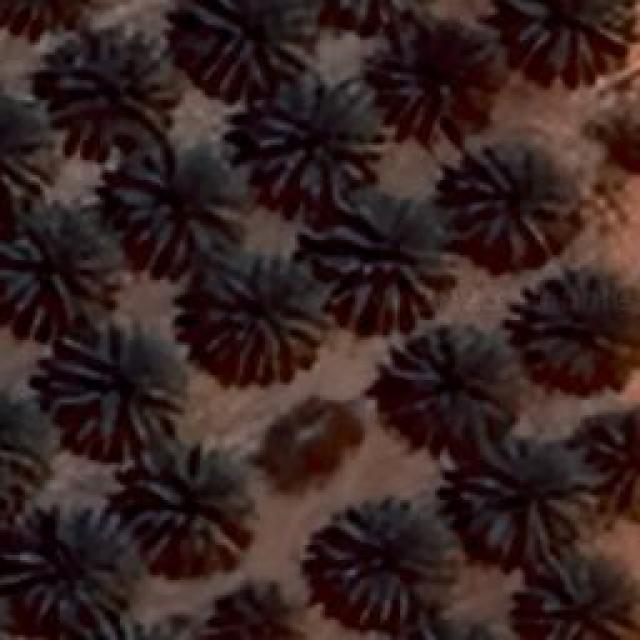PalmTree: (40, 320, 190, 462), (310, 192, 455, 332), (458, 430, 598, 560), (188, 252, 322, 386), (308, 500, 450, 625), (255, 70, 383, 200), (47, 22, 175, 152), (115, 140, 243, 268), (0, 205, 120, 335), (2, 502, 130, 622), (125, 438, 250, 560), (445, 145, 570, 260), (530, 272, 640, 396), (382, 320, 510, 422), (395, 20, 493, 128), (170, 0, 322, 68), (521, 544, 624, 638), (0, 386, 54, 509), (510, 0, 625, 52), (0, 96, 49, 209), (199, 583, 295, 640), (316, 0, 429, 42), (592, 408, 640, 502), (0, 0, 103, 42), (94, 616, 199, 640), (396, 616, 501, 640)
